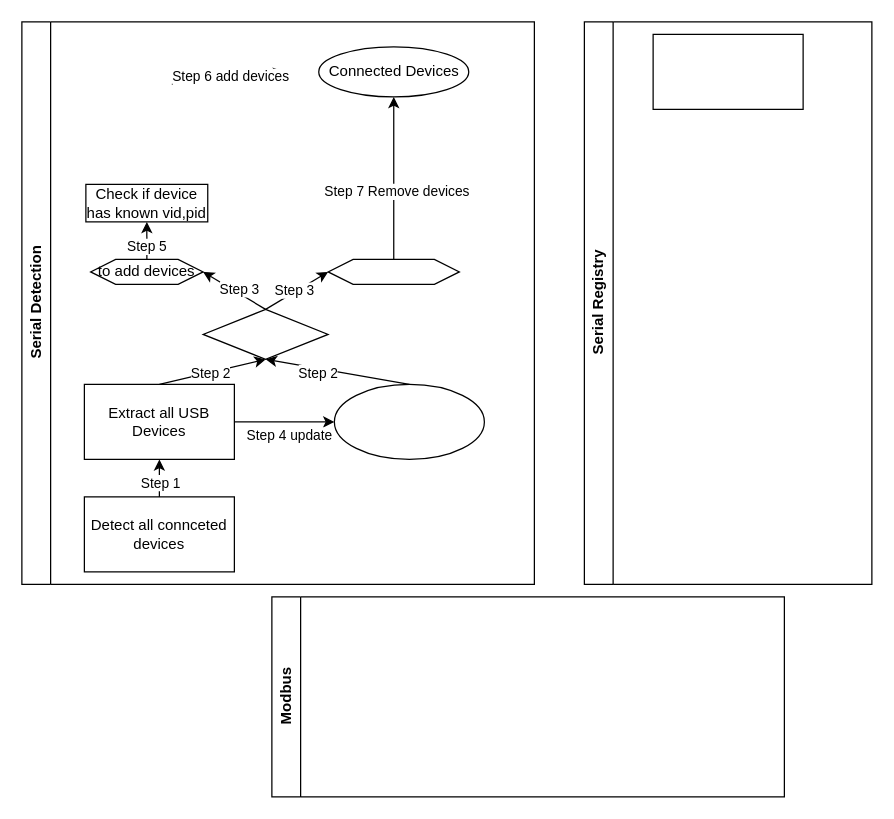
Image size: 894x819. Some labels were removed from this diagram. Each missing label, with the box of its shape:
Compare: (202, 308, 328, 359)
New: (652, 33, 803, 109)
Previous detected usb devices: (333, 383, 484, 459)
to delete devices: (327, 258, 459, 284)
